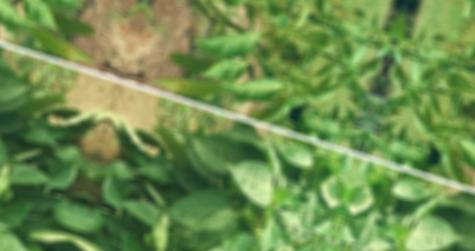Tomato leaf bacterial spot: (166, 171, 253, 243), (151, 55, 239, 110), (188, 13, 264, 71), (215, 149, 287, 210), (219, 63, 297, 116), (113, 188, 176, 233), (91, 168, 137, 217), (197, 218, 258, 251), (74, 202, 114, 239), (345, 35, 367, 69), (203, 0, 257, 12)
